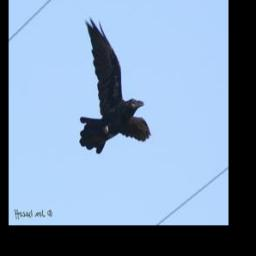Crow: (79, 16, 152, 153)
